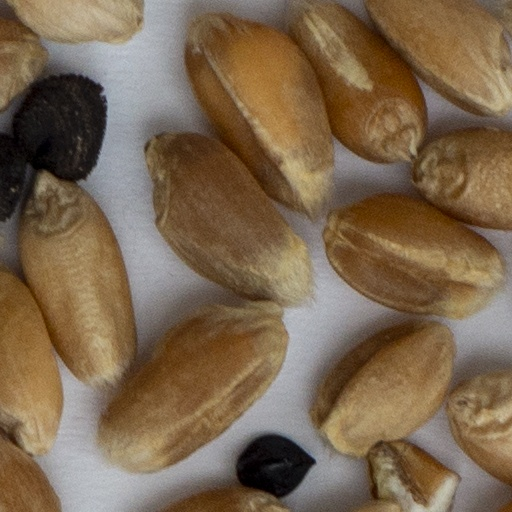Agrostemma-poly: (0, 132, 132, 219), (15, 75, 75, 178)
Fallopia-Сonvolvulus-poly: (234, 431, 431, 497)
Wheat-grain-damaged-poly: (370, 442, 442, 511)
